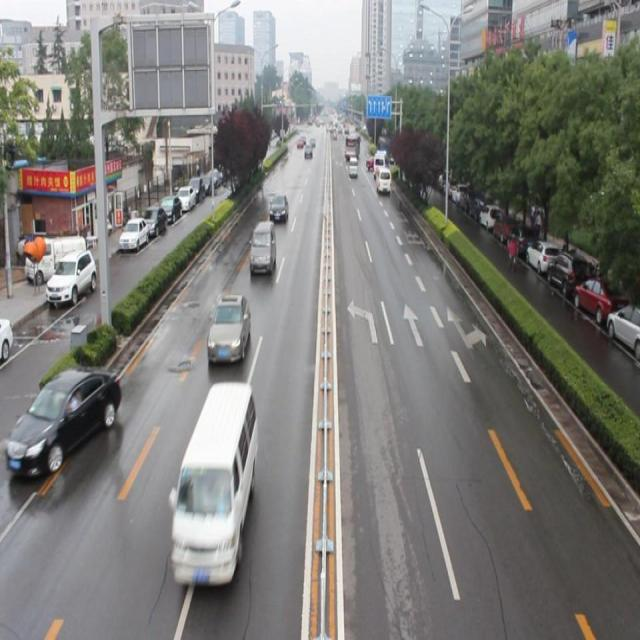car: (0, 367, 120, 480), (206, 294, 251, 364), (269, 195, 289, 220)
truck: (165, 379, 258, 582), (248, 217, 276, 277), (374, 166, 391, 194), (348, 156, 357, 179)
